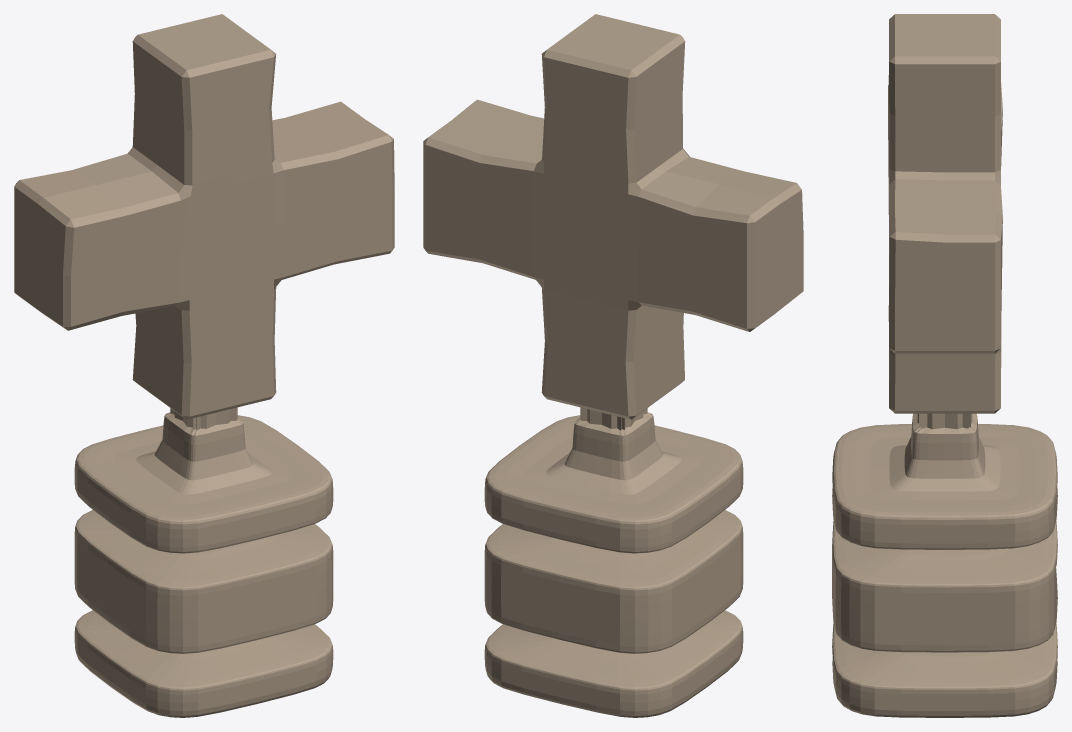
Rendered from TokenMedicina.fbx.
3 renders of one model, left to right at view 1: azimuth 30°, elevation 25°; view 2: azimuth 150°, elevation 25°; view 3: azimuth 270°, elevation 25°, orthographic. The views are drawn at different scales.
Visible parts, largest first — view 1: TokenMedicina; view 2: TokenMedicina; view 3: TokenMedicina.
Part boxes in pixels (<box>): TokenMedicina: <box>14,14,394,717</box>; TokenMedicina: <box>423,14,803,717</box>; TokenMedicina: <box>832,14,1057,717</box>.
Bounding box in the file's own units: 39.21 × 70.44 × 22.58.
